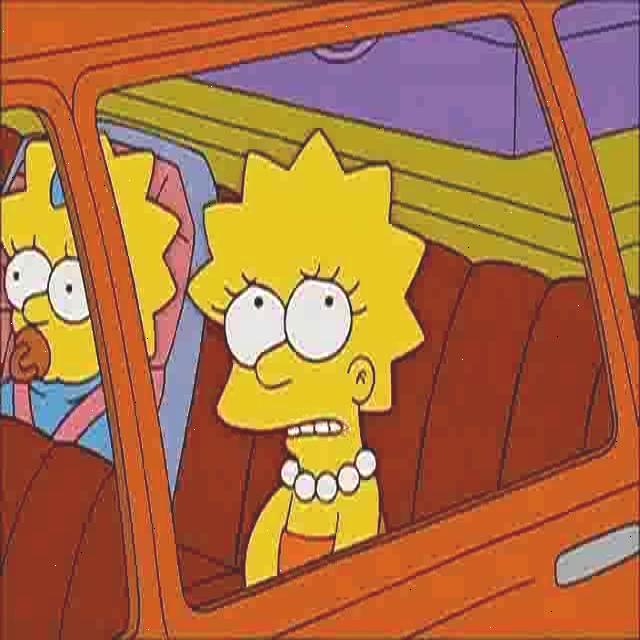Lisa Simpson: (188, 126, 428, 486)
Maggie Simpson: (2, 126, 180, 388)
